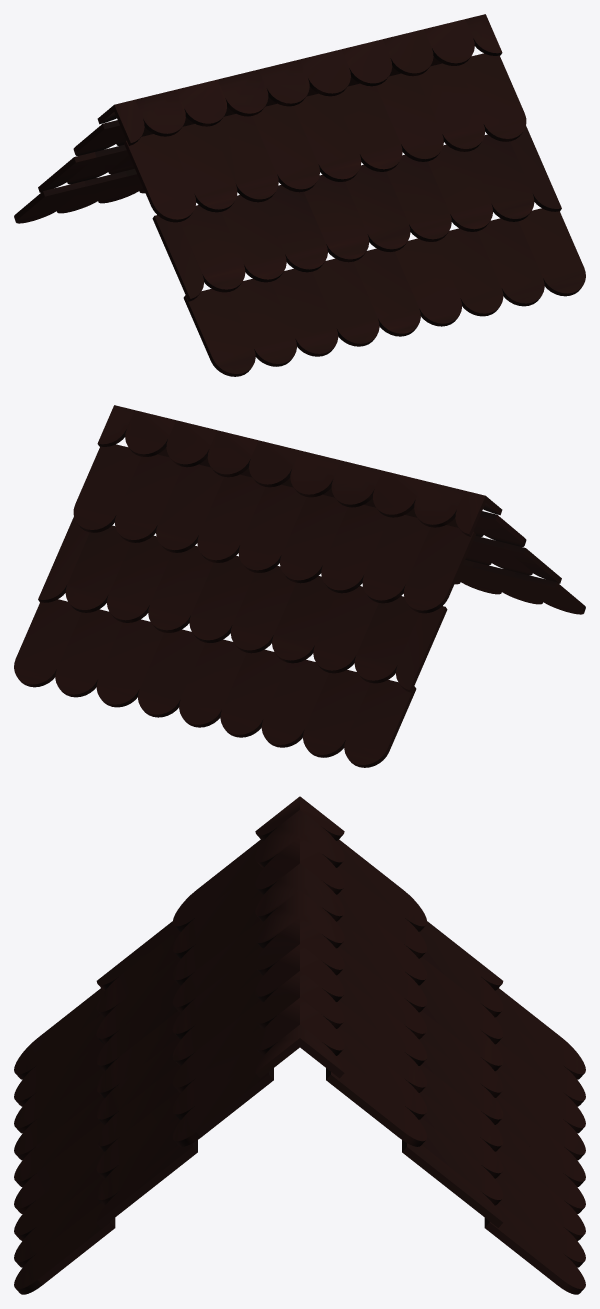
Rendered from Roof_Top.fbx.
3 views of the same model, one above another, from view 1: azimuth 30°, elevation 25°; view 2: azimuth 150°, elevation 25°; view 3: azimuth 270°, elevation 25° (orthographic). The views are drawn at different scales.
Visible parts, largest first — view 1: Roof_Top; view 2: Roof_Top; view 3: Roof_Top.
Part boxes in pixels (x1,y1,x2,y2): Roof_Top: (14, 14, 585, 376); Roof_Top: (14, 405, 585, 767); Roof_Top: (14, 796, 585, 1294).
Size of the model in its own units: 100 by 51.3 by 100.
